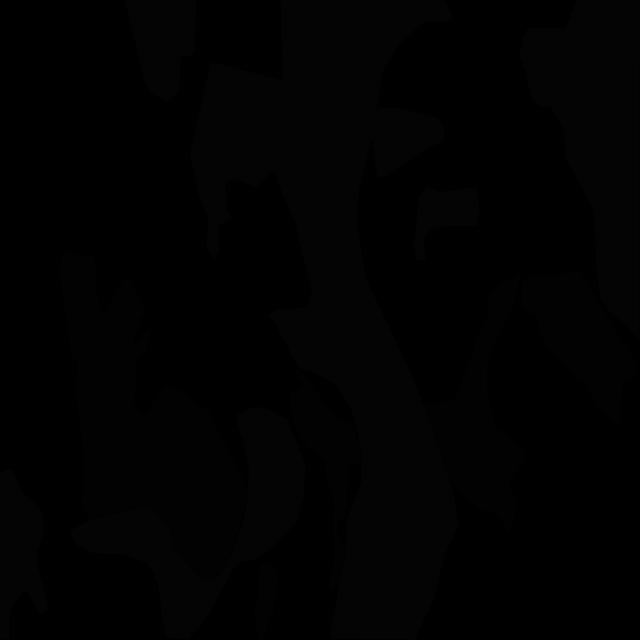cardboard: (60, 252, 248, 582), (422, 271, 525, 534), (521, 271, 637, 425), (290, 369, 362, 593), (254, 563, 279, 640)
soft_plastic: (190, 0, 458, 640), (70, 407, 306, 639), (520, 0, 640, 340), (0, 470, 48, 640), (125, 0, 196, 102), (372, 107, 444, 177), (414, 186, 480, 260)
